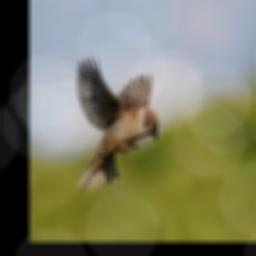Sparrow: (77, 57, 159, 193)
